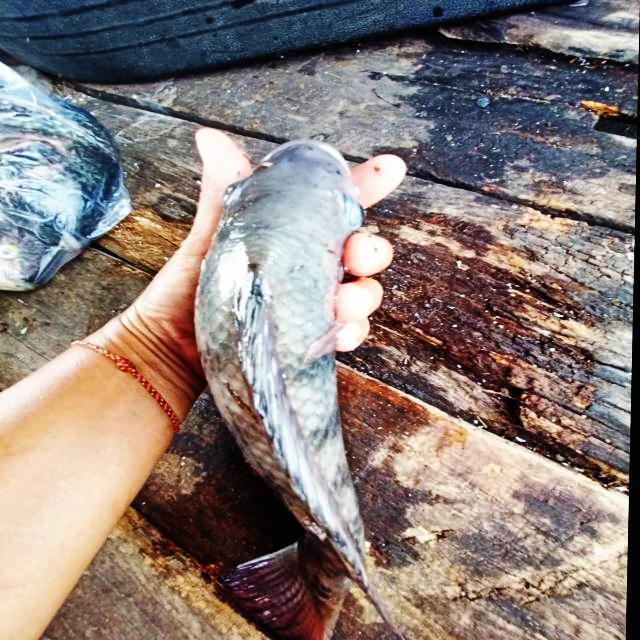Tilapia Lake Virus -TiLV-: (195, 141, 384, 639)
